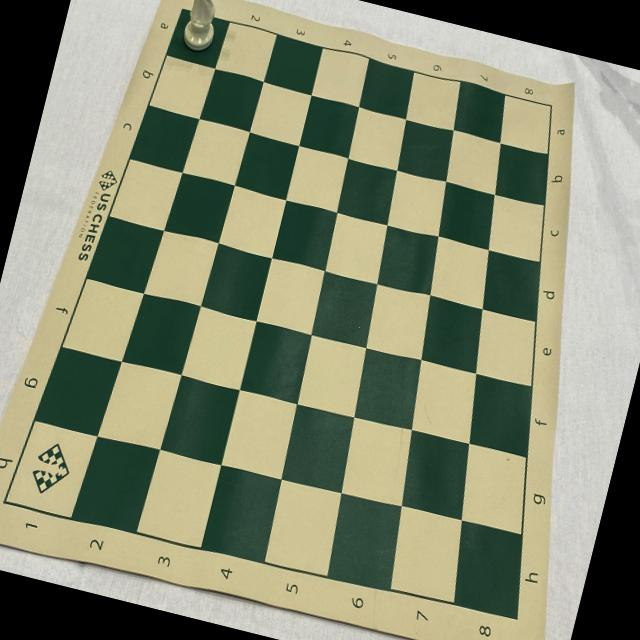white-knight: (178, 0, 229, 54)
